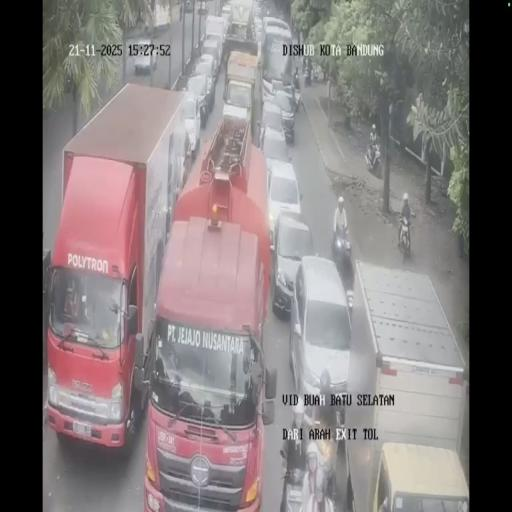car: (271, 208, 315, 318), (258, 102, 288, 156), (191, 57, 217, 114), (262, 16, 292, 54), (202, 31, 223, 71), (252, 12, 264, 48), (220, 2, 232, 31)
motorcycle: (397, 213, 413, 263), (304, 66, 312, 87)
truck: (46, 83, 194, 453), (339, 263, 467, 512)
